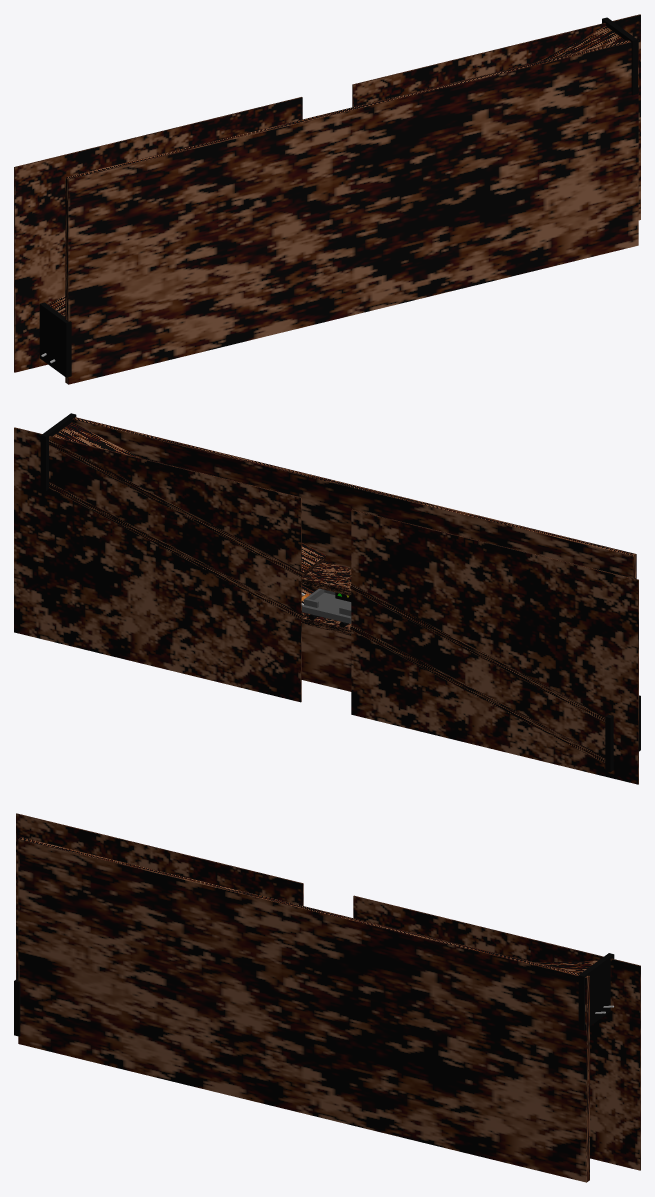
The model's file is Minecart.fbx.
The picture shows the model from 3 angles, top to bottom: view 1: azimuth 30°, elevation 25°; view 2: azimuth 150°, elevation 25°; view 3: azimuth 330°, elevation 25°; orthographic projection.
Parts seen in each view (by area): view 1: Cube.008, Cube.015, Cube.016, Cube.007, Cube.004, Cube.006; view 2: Cube.015, Cube.016, Cube.008, Cube.004, Cube.001, Cube.002, Cube.003, Cube.005, Cube, Cube.006, Cube.007; view 3: Cube.008, Cube.016, Cube.015, Cube.006.
Boxes of the visible parts, x1,y1,x2,y2 form: Cube.008: (65, 40, 638, 384); Cube.015: (14, 97, 302, 372); Cube.016: (352, 14, 640, 220); Cube.007: (39, 302, 71, 377); Cube.004: (538, 26, 625, 61); Cube.006: (602, 17, 637, 95); Cube.015: (351, 509, 638, 784); Cube.016: (14, 427, 301, 702); Cube.008: (72, 417, 636, 691); Cube.004: (49, 422, 326, 577); Cube.001: (49, 482, 313, 620); Cube.002: (350, 624, 605, 763); Cube.003: (350, 583, 605, 722); Cube.005: (301, 561, 351, 595); Cube: (302, 592, 351, 623); Cube.006: (40, 413, 76, 490); Cube.007: (605, 695, 640, 772); Cube.008: (18, 837, 589, 1182); Cube.016: (353, 895, 640, 1170); Cube.015: (16, 813, 303, 979); Cube.006: (578, 953, 614, 1030).
Size of the model in its own units: 234 by 73.93 by 19.72.
Materials: 54 (44 with a texture image).
